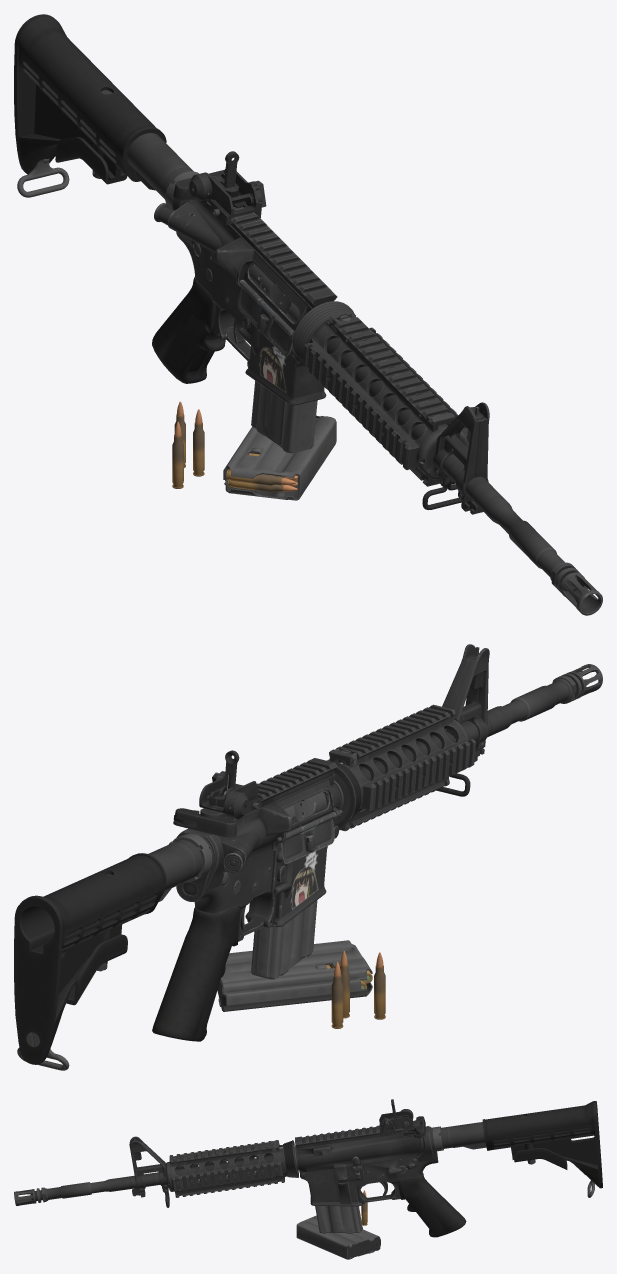
Rendered from colt_m4a1_carbine.glb.
The picture shows the model from 3 angles, top to bottom: view 1: azimuth 30°, elevation 25°; view 2: azimuth 150°, elevation 25°; view 3: azimuth 270°, elevation 25°; orthographic projection. The views are drawn at different scales.
Visible parts, largest first — view 1: m4a1.001_colt_m4_furniture_0, m4a1.001_colt_m4_main_0, mag_20rnd_stanag_mag_0, m4a1.001_matech_rear_sight_0; view 2: m4a1.001_colt_m4_furniture_0, m4a1.001_colt_m4_main_0, mag_20rnd_stanag_mag_0, m4a1.001_matech_rear_sight_0; view 3: m4a1.001_colt_m4_furniture_0, m4a1.001_colt_m4_main_0, mag_20rnd_stanag_mag_0, m4a1.001_matech_rear_sight_0.
Part boxes in pixels (x1,y1,x2,y2): m4a1.001_colt_m4_furniture_0: (14, 14, 469, 486); m4a1.001_colt_m4_main_0: (154, 169, 602, 615); mag_20rnd_stanag_mag_0: (172, 380, 336, 500); m4a1.001_matech_rear_sight_0: (189, 151, 266, 224); m4a1.001_colt_m4_furniture_0: (14, 704, 475, 1070); m4a1.001_colt_m4_main_0: (173, 644, 602, 941); mag_20rnd_stanag_mag_0: (217, 900, 385, 1028); m4a1.001_matech_rear_sight_0: (199, 750, 261, 819); m4a1.001_colt_m4_furniture_0: (166, 1101, 602, 1237); m4a1.001_colt_m4_main_0: (14, 1116, 438, 1207); mag_20rnd_stanag_mag_0: (296, 1190, 380, 1259); m4a1.001_matech_rear_sight_0: (379, 1099, 413, 1136).
Size of the model in its own units: 1.24 by 1.95 by 7.18.
Materials: 4 (4 with a texture image).
